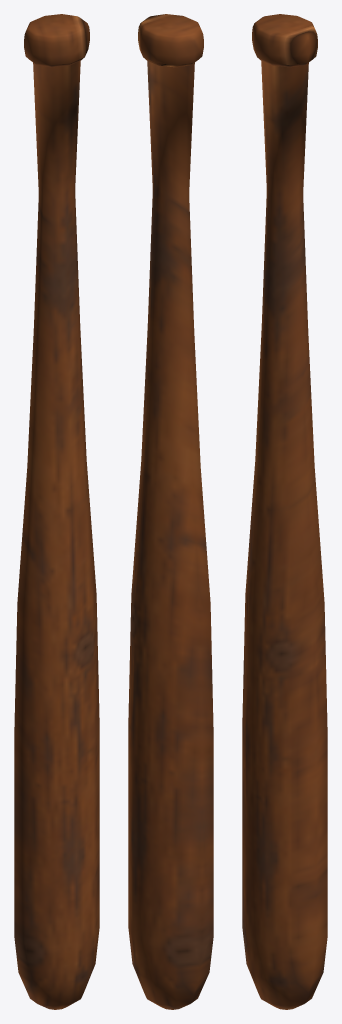
Rendered from beyzbol sopası.fbx.
3 views of the same model, side by side, from view 1: azimuth 30°, elevation 25°; view 2: azimuth 150°, elevation 25°; view 3: azimuth 330°, elevation 25° (orthographic).
Visible parts, largest first — view 1: Icosphere.002; view 2: Icosphere.002; view 3: Icosphere.002.
Part boxes in pixels (x1,y1,x2,y2): Icosphere.002: [14, 14, 99, 1009]; Icosphere.002: [128, 14, 213, 1009]; Icosphere.002: [242, 14, 327, 1009].
Bounding box in the file's own units: 6.81 × 86.3 × 6.02.
Materials: 1 (1 with a texture image).
